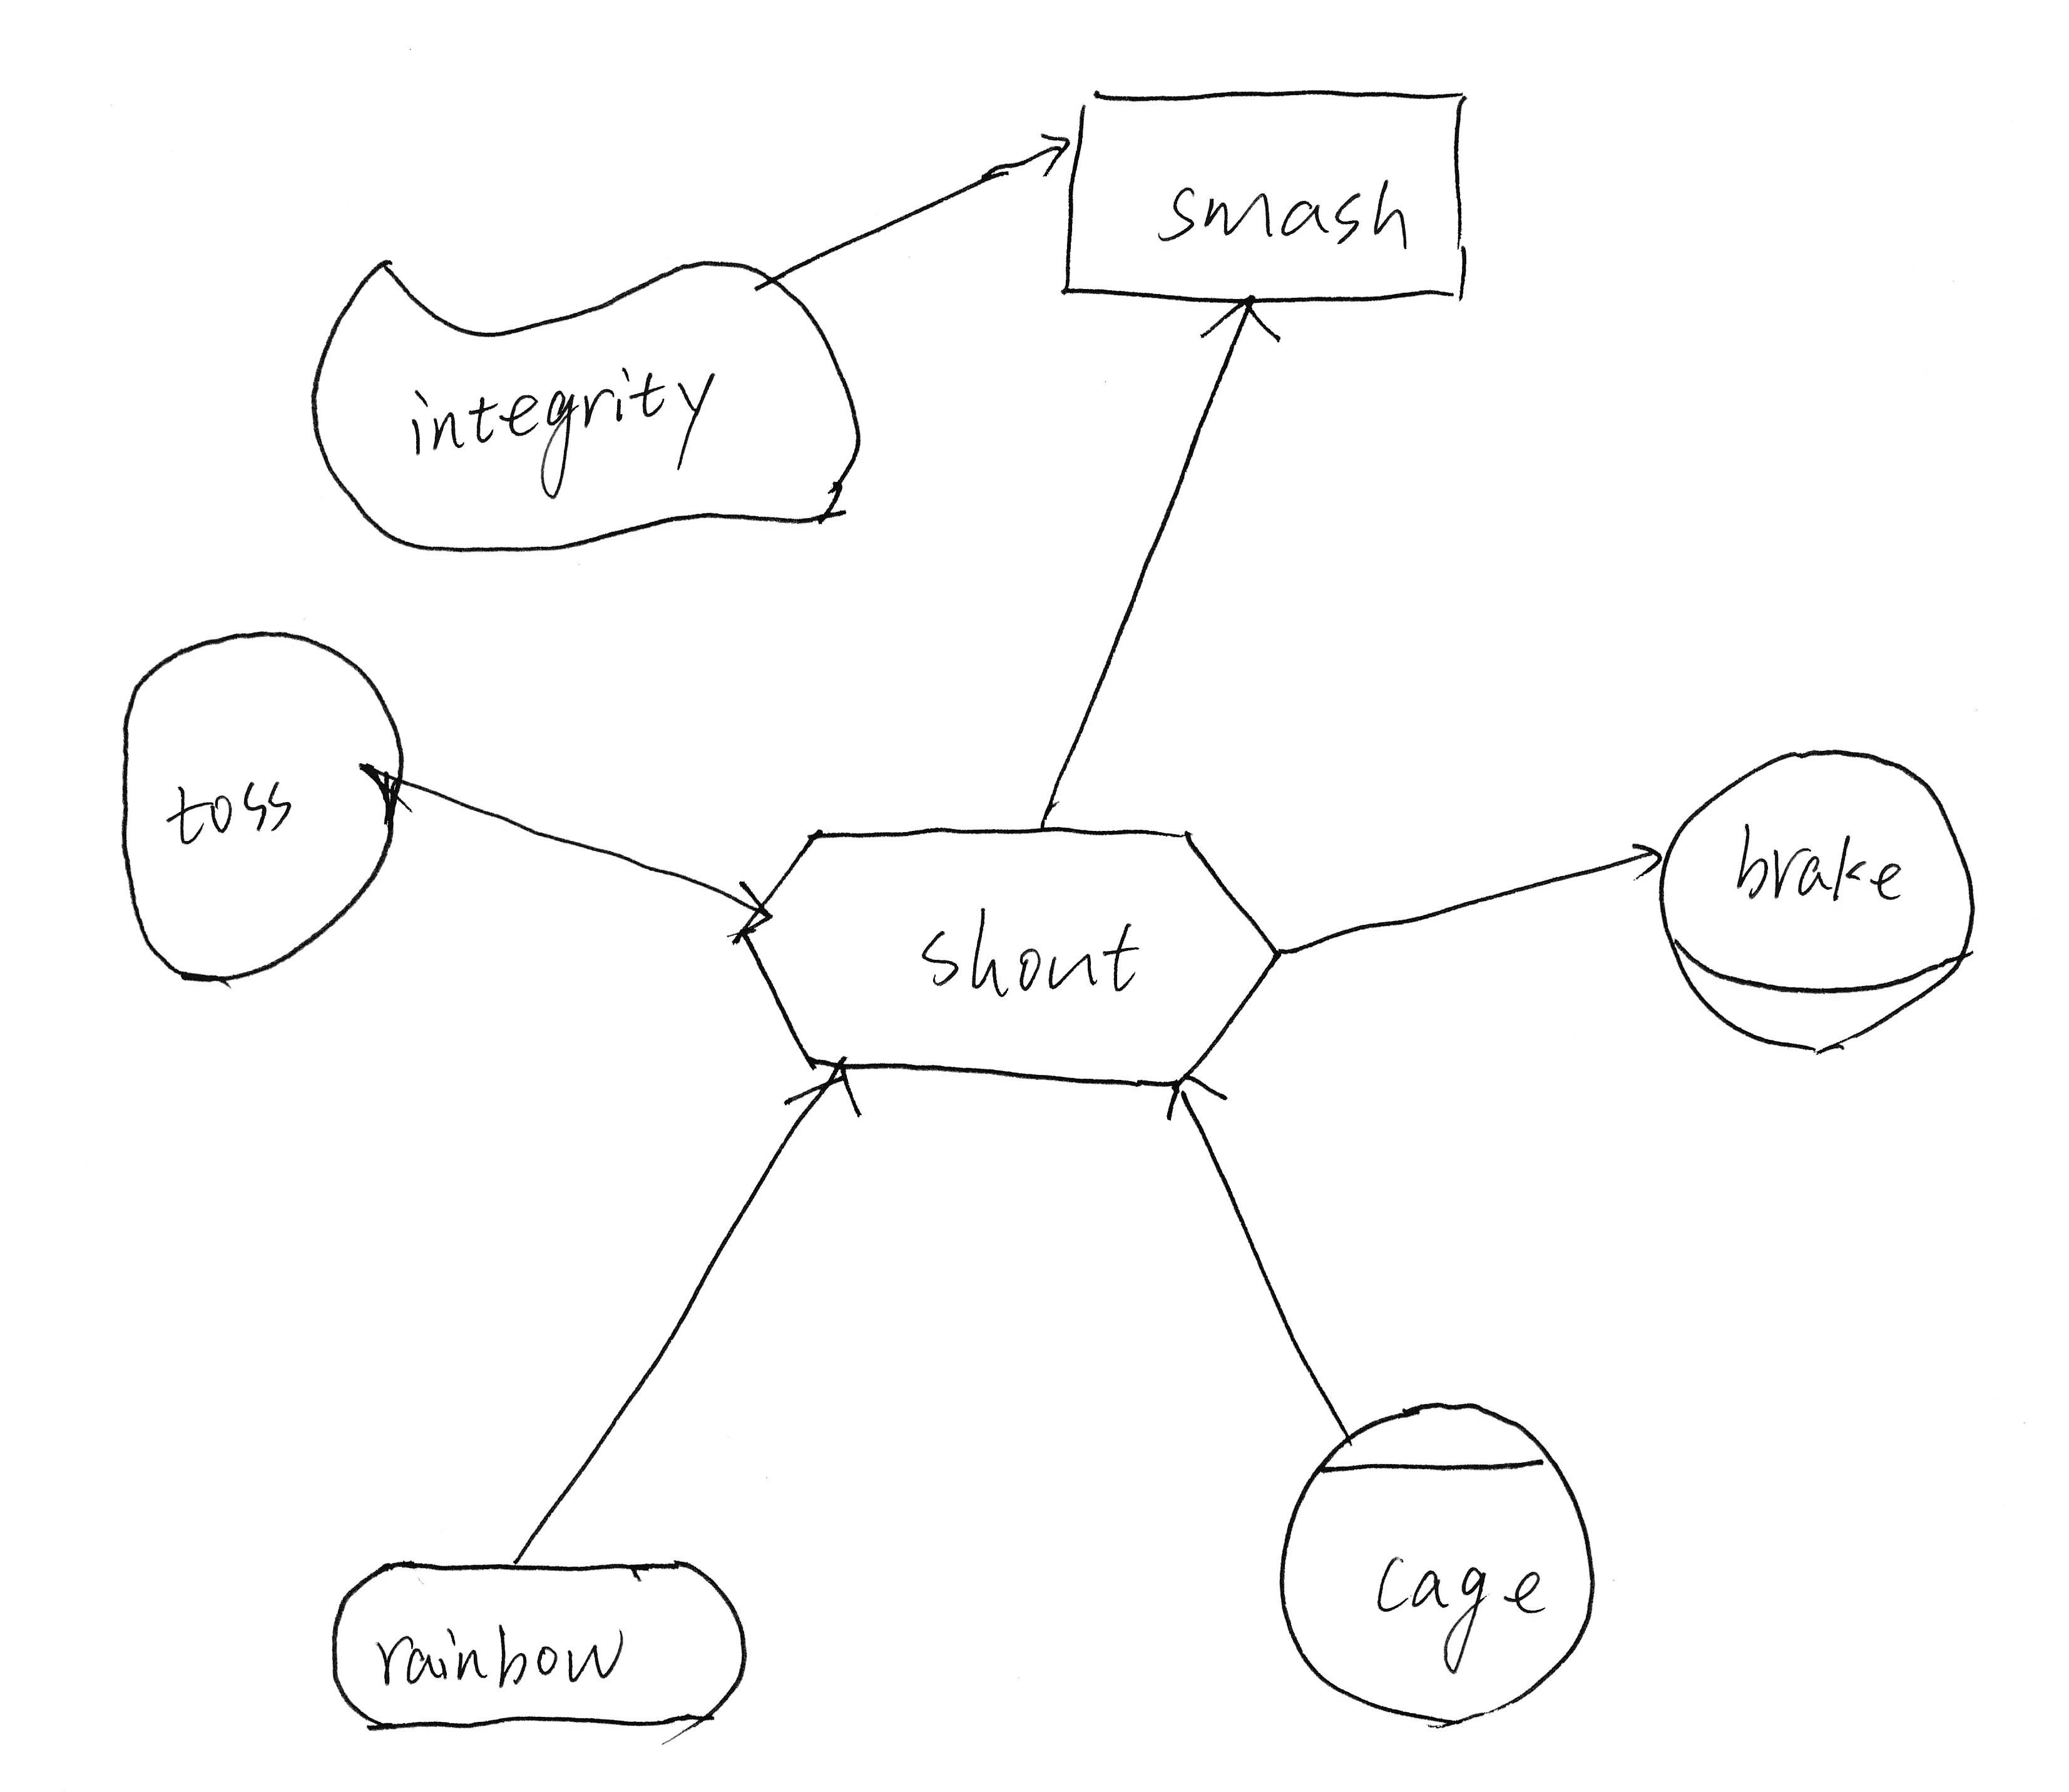actor: (102, 619, 417, 1022)
agent: (1260, 1382, 1619, 1741)
arrow: (299, 234, 876, 572), (1189, 287, 1290, 364), (762, 1052, 867, 1124), (720, 858, 783, 955), (1161, 1066, 1242, 1134), (1615, 823, 1671, 900), (1024, 118, 1075, 185)
goal: (310, 1533, 769, 1752)
resource: (1043, 67, 1495, 329)
role: (1636, 730, 1997, 1078)
task: (723, 804, 1293, 1106)
